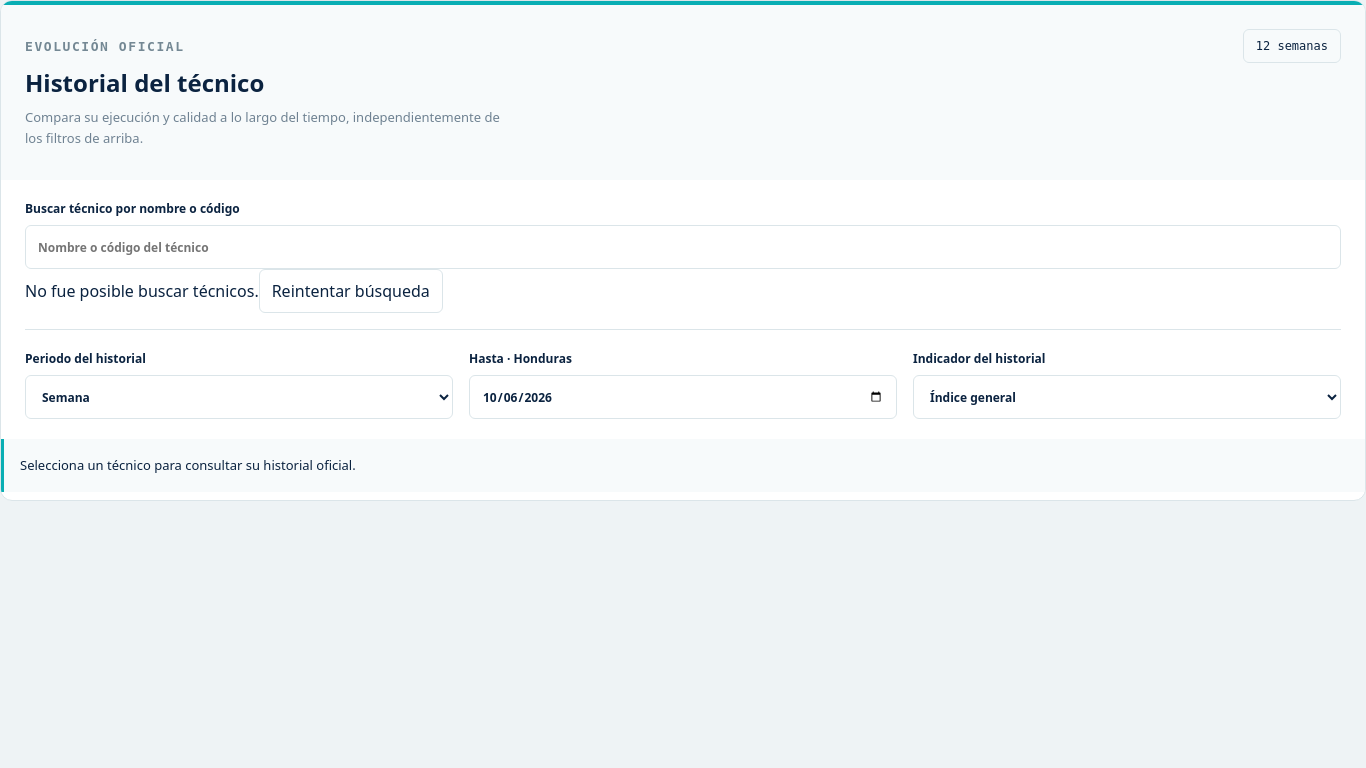
history panel › handles directory failure, retry, empty search and pagination
The image size is (1366, 768).
Click the button "Reintentar búsqueda": (351, 291) [259,269,443,313]
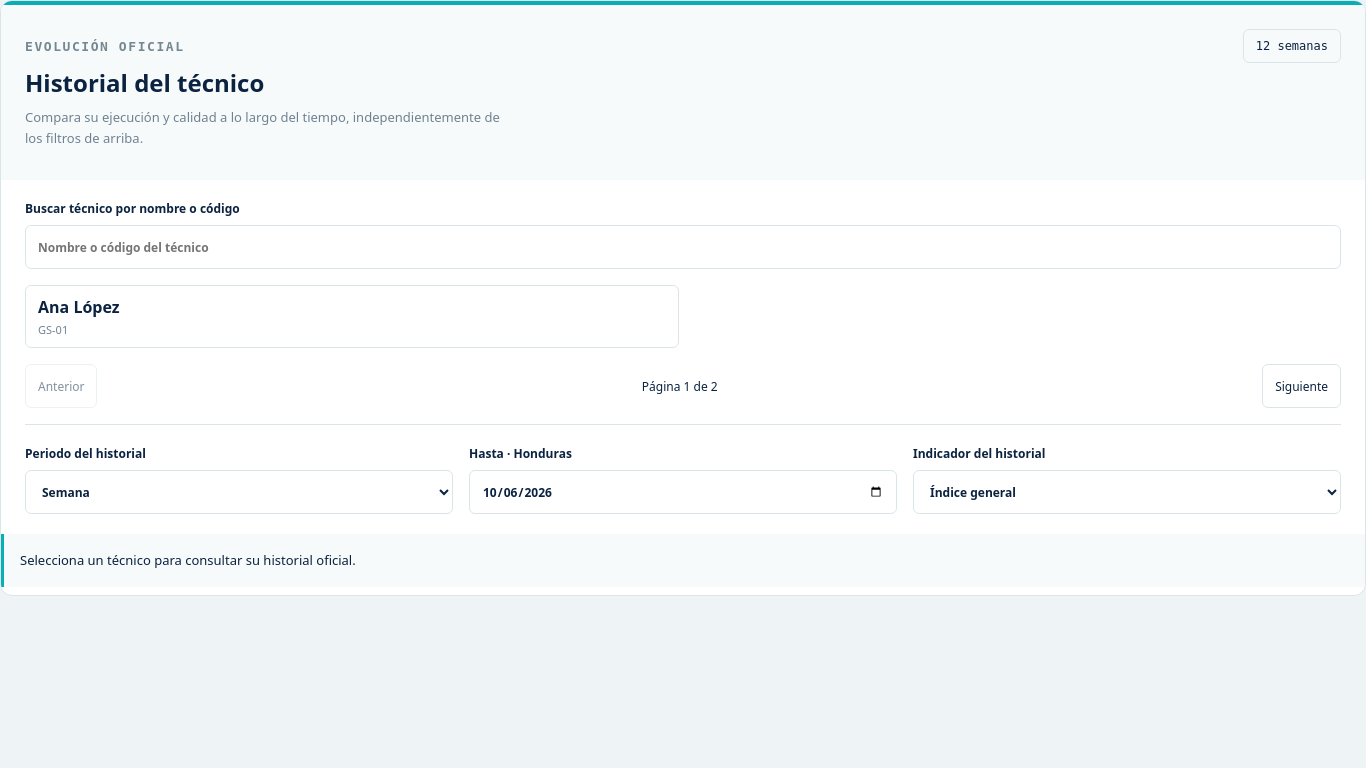
Click the button with aria-label "Siguiente página de técnicos": (1302, 386) [1262,364,1341,408]
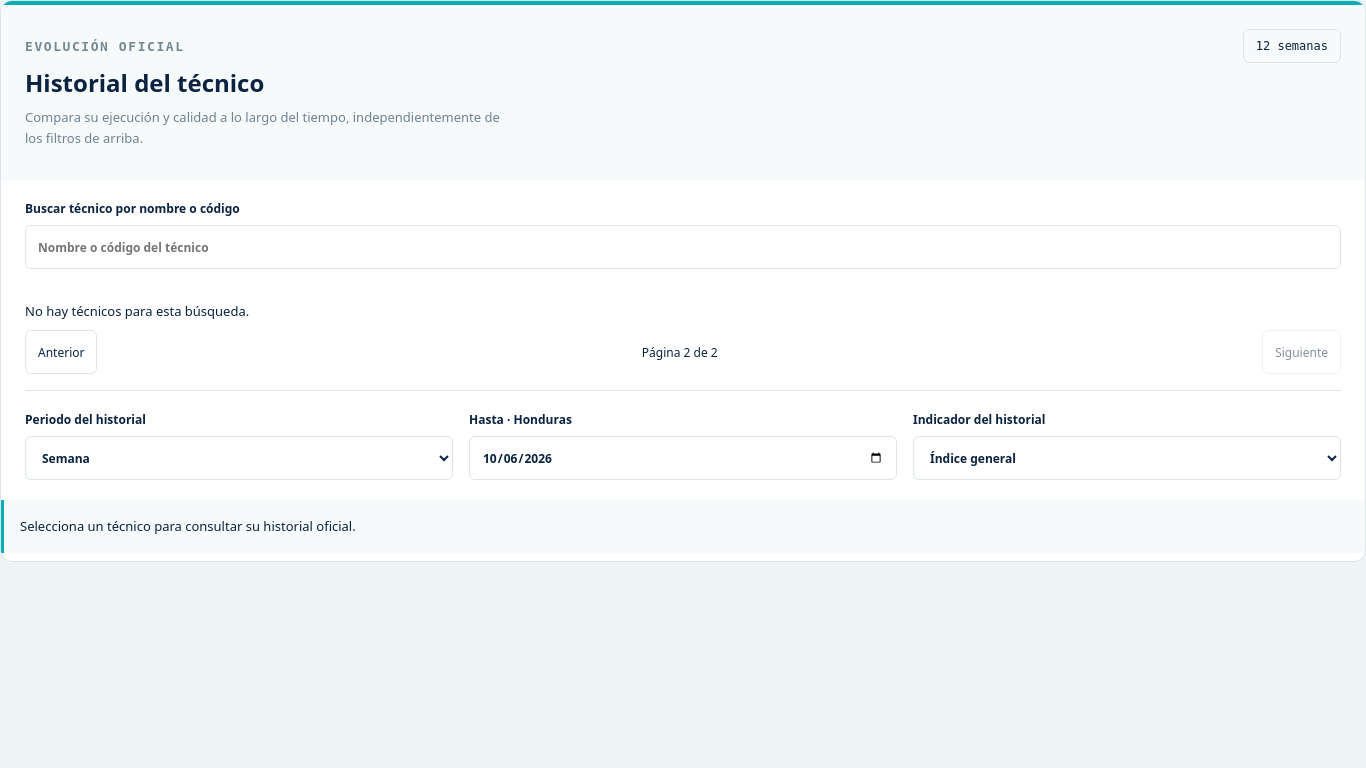
Now the text "No hay técnicos para esta búsqueda." is shown, box [25,302,249,320]
